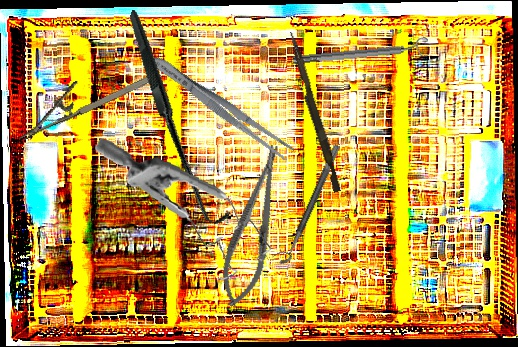Dressing Forceps: (145, 49, 298, 165)
Fixation Ring: (270, 139, 342, 268), (292, 36, 430, 70)
Hook Surgical: (73, 9, 284, 228)
Needle Holder: (213, 140, 295, 312), (6, 53, 156, 142)
Pusher: (282, 31, 346, 193)
Speculum: (82, 138, 283, 286)
